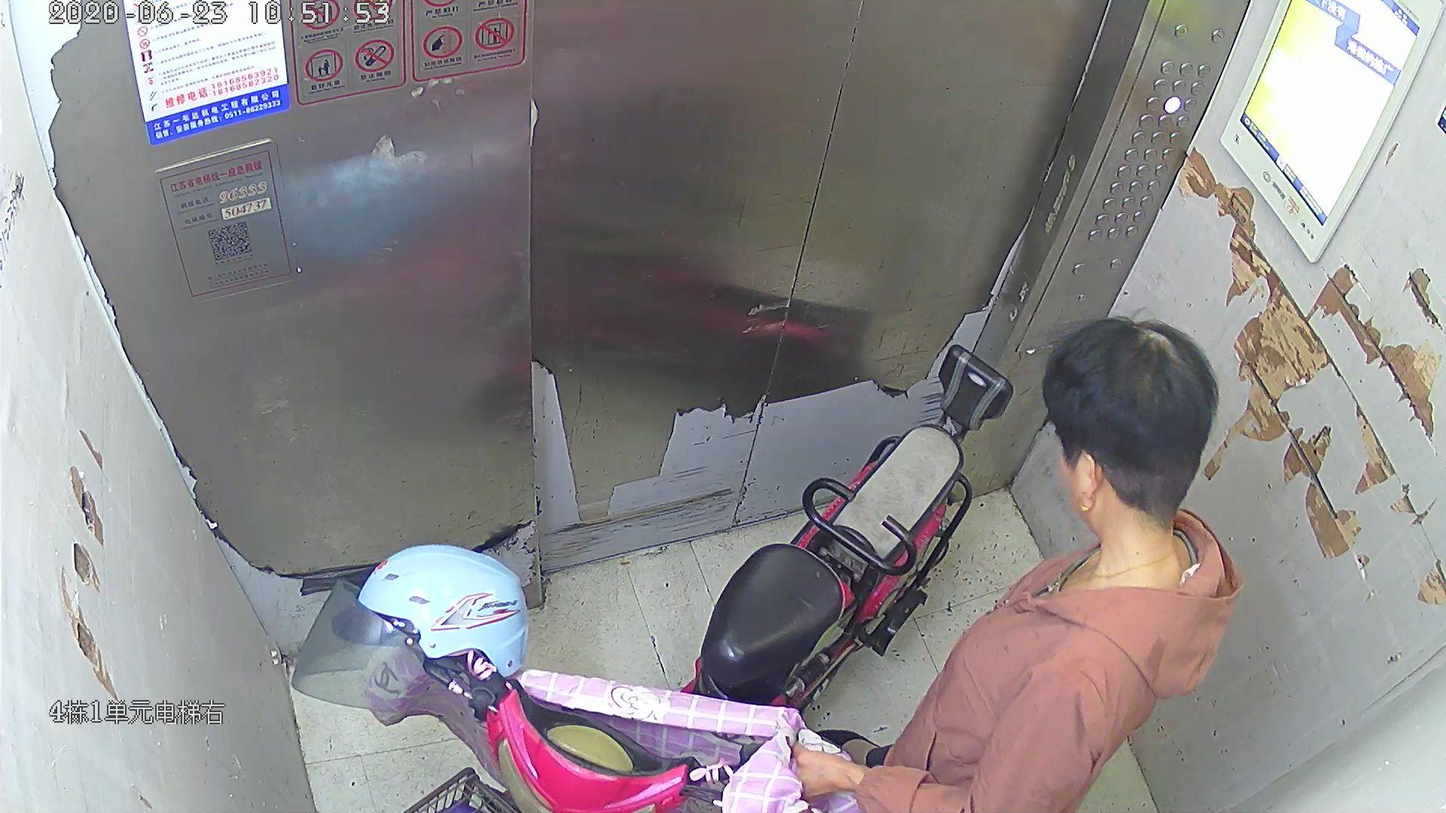Electric-bicycle: (329, 342, 1007, 812)
